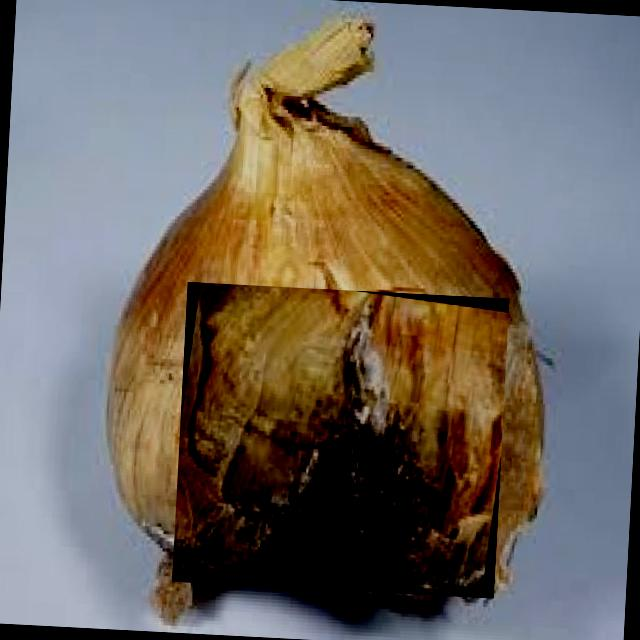rotten: (172, 282, 509, 598)
